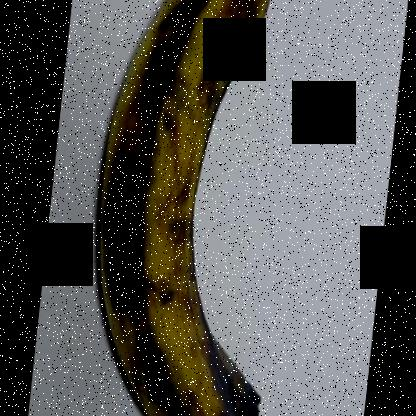overripe: (70, 1, 292, 415)
